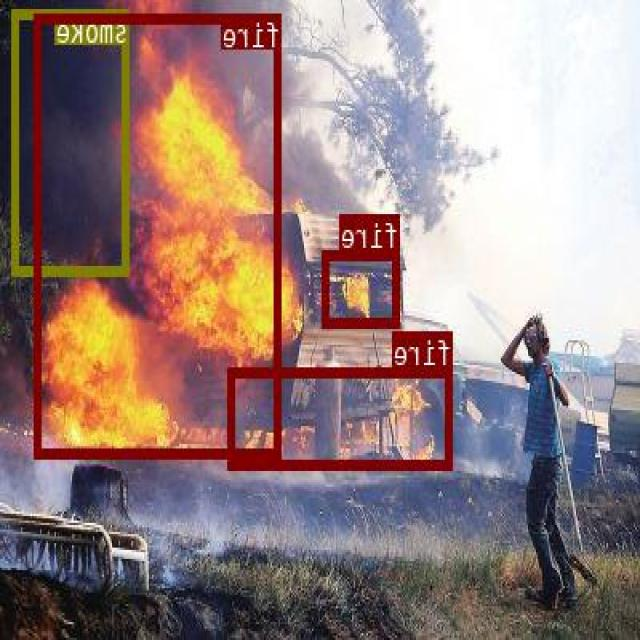fire: (36, 12, 283, 457), (230, 366, 454, 468), (324, 250, 401, 325)
smoke: (13, 8, 131, 274)
